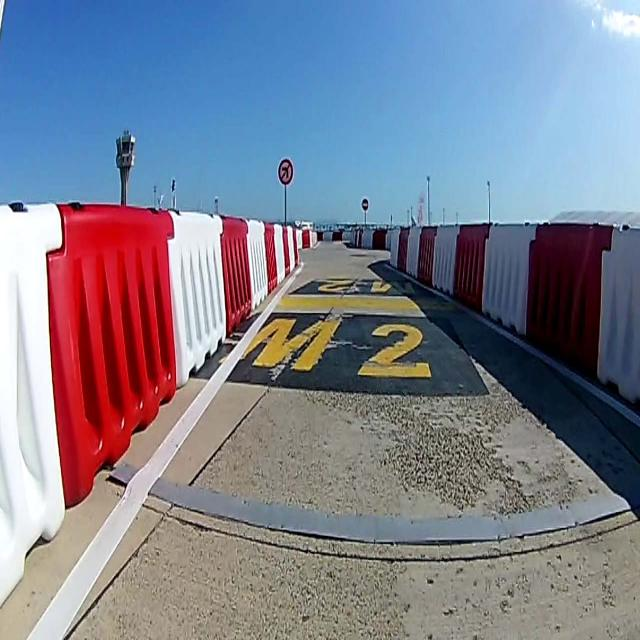girisyok: (362, 198, 368, 212)
soladonulmez: (278, 158, 293, 185)
